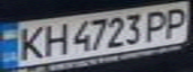2: (106, 12, 130, 48)
3: (121, 10, 148, 45)
4: (69, 17, 93, 53)
7: (87, 16, 109, 51)
H: (39, 20, 72, 56)
K: (12, 24, 48, 61)
P: (157, 3, 193, 39), (139, 7, 175, 42)
